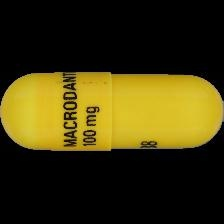55700-295: (0, 0, 224, 224)
